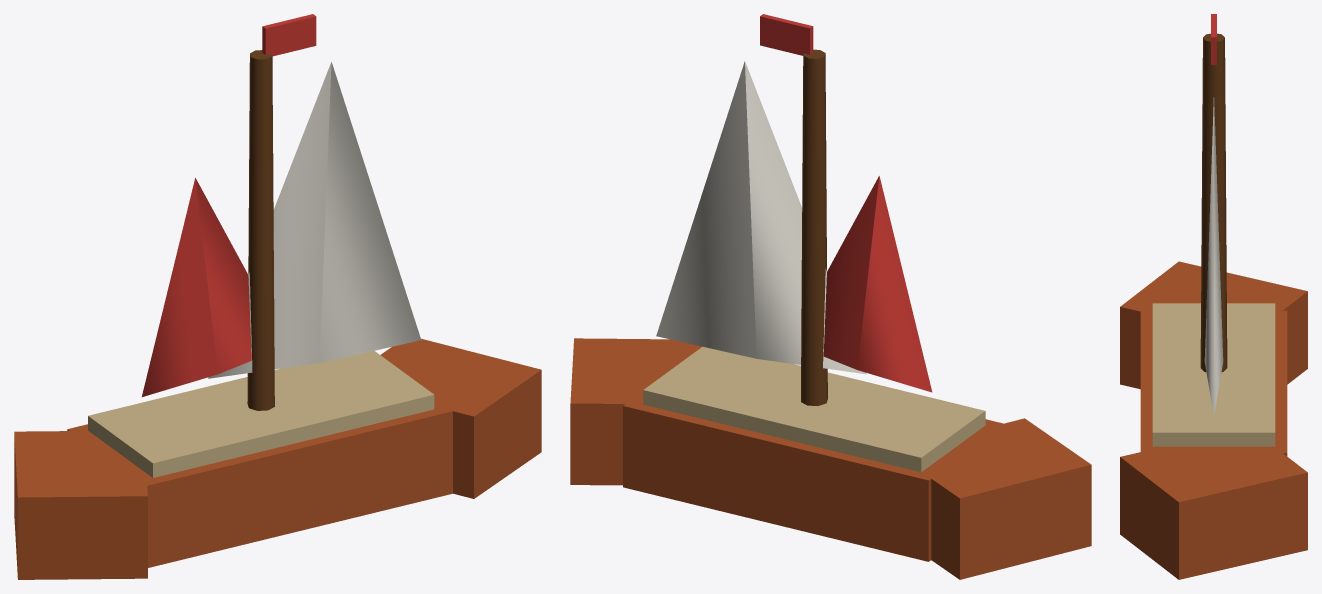
Rendered from boat.glb.
3 renders of one model, left to right at view 1: azimuth 30°, elevation 25°; view 2: azimuth 150°, elevation 25°; view 3: azimuth 270°, elevation 25°, orthographic. The views are drawn at different scales.
Visible parts, largest first — view 1: boat; view 2: boat; view 3: boat.
Boxes of the visible parts, x1=… form: boat: x1=14, y1=14, x2=541, y2=579; boat: x1=570, y1=14, x2=1091, y2=579; boat: x1=1120, y1=14, x2=1307, y2=579.
Bounding box in the file's own units: 0.9306 × 0.805 × 0.3065.
